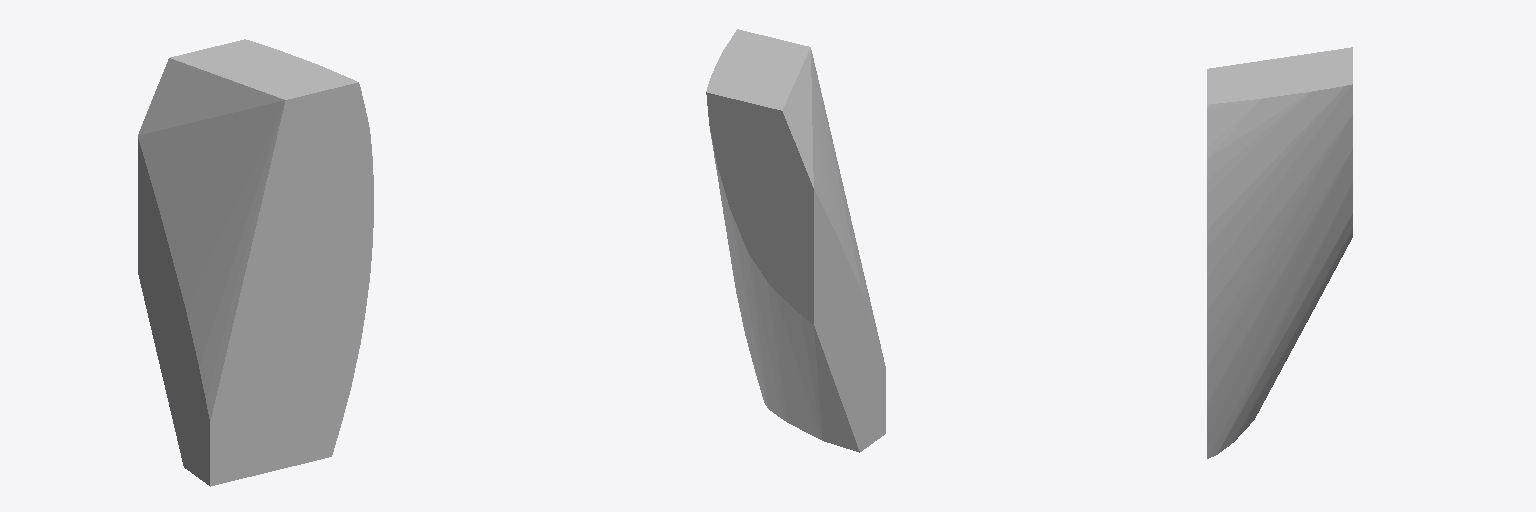
The model's file is phantom-elastrat_collision_421.obj.
3 renders of one model, left to right at view 1: azimuth 30°, elevation 25°; view 2: azimuth 150°, elevation 25°; view 3: azimuth 270°, elevation 25°, orthographic.
Bounding box in the file's own units: 0.0041 × 0.0087 × 0.0031.